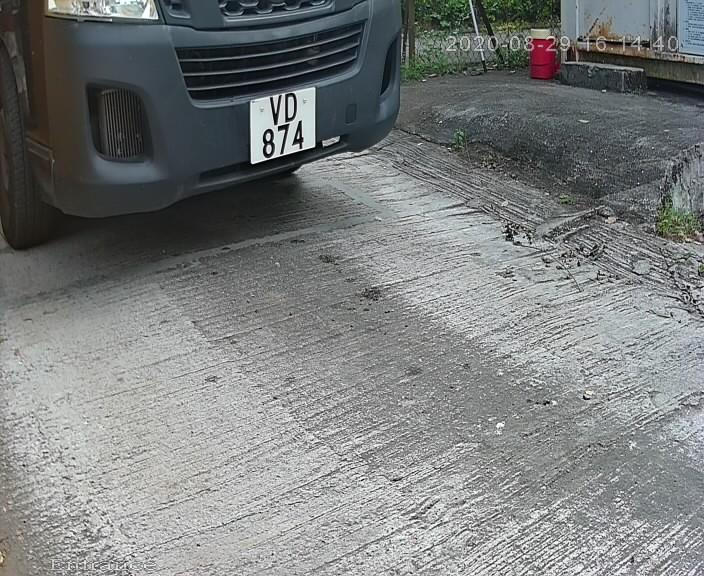License Plate: (236, 78, 321, 175)
